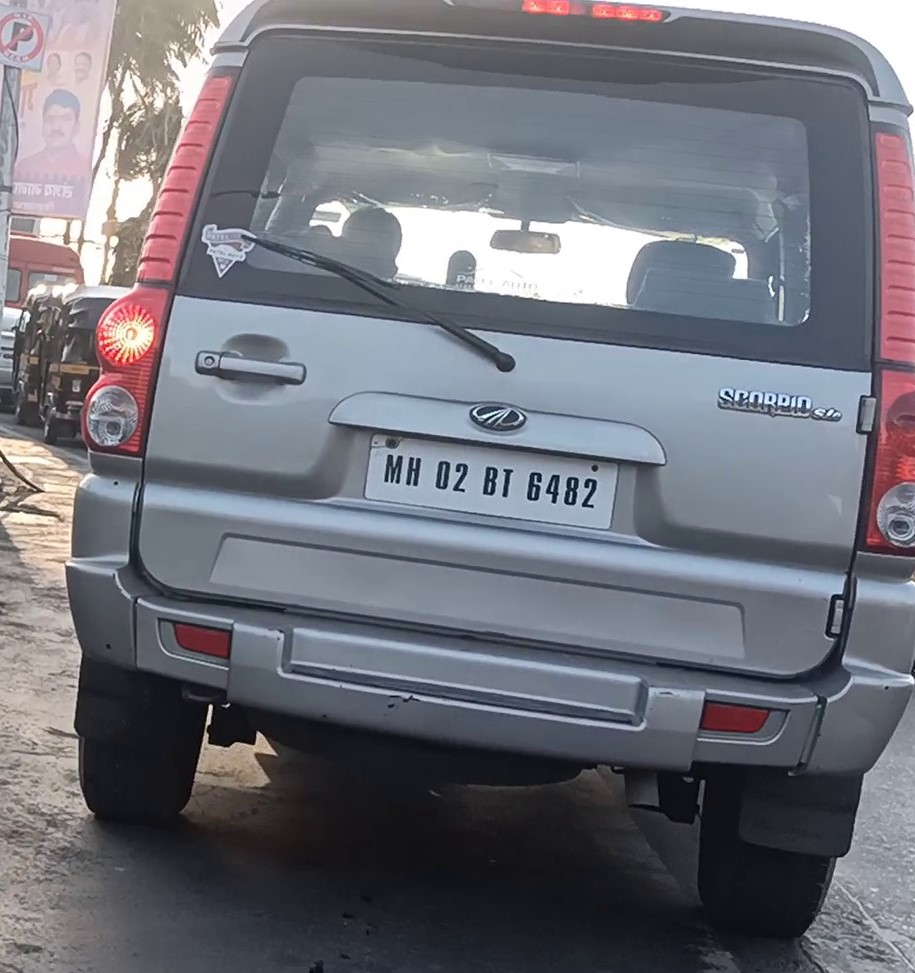MH02BT6482: (365, 425, 619, 530)
